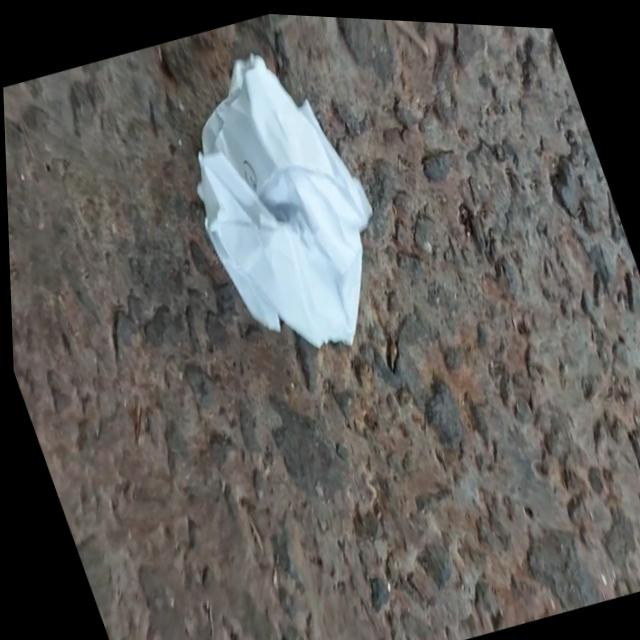paper: (198, 54, 395, 368)
